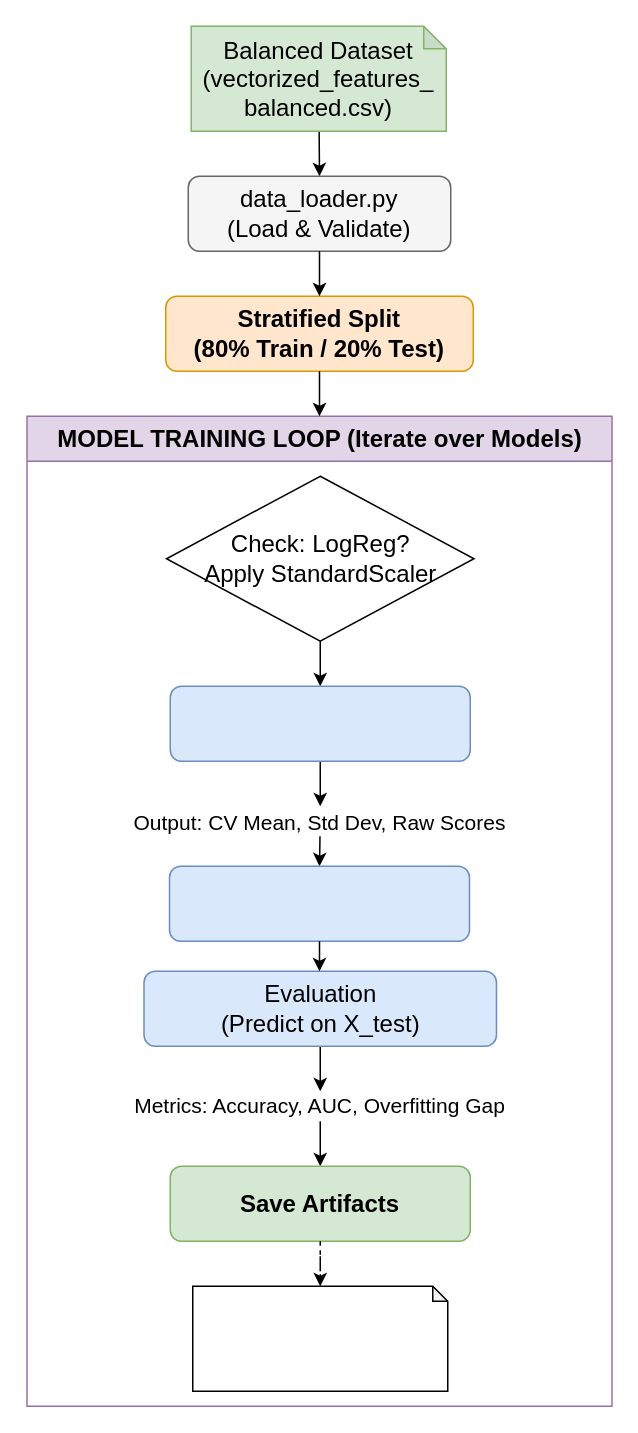
Some shapes in this 638 by 1433 pixel diagram are drawn without their labels. Each missing label, with the centre of its shape:
1. {model}_model.pkl 2. {model}_scaler.pkl 3. test_report.json: the point at 319,1338
10-Fold Stratified CV (On Train Set): the point at 319,723
Final Fit (Train on Full X_train): the point at 319,903
